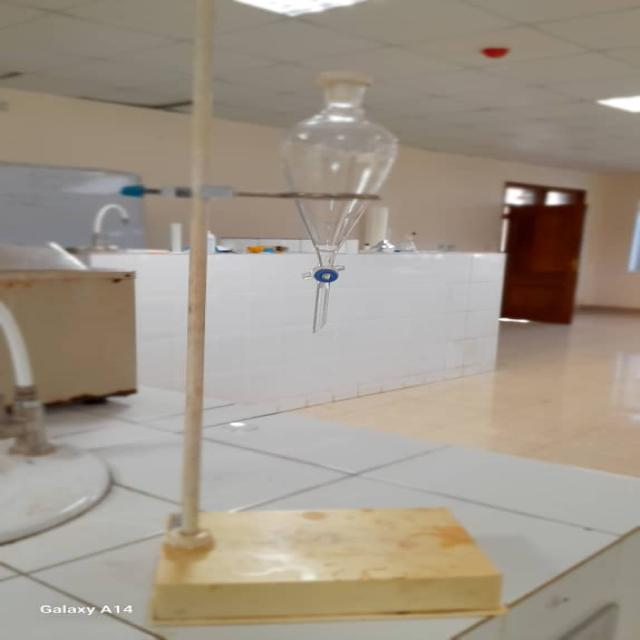Separating Funnel: (278, 55, 404, 343)
